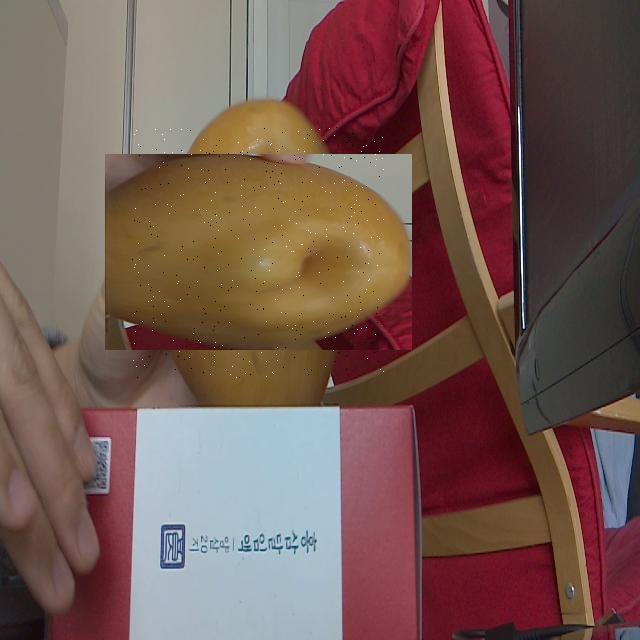pear: (132, 126, 384, 378)
